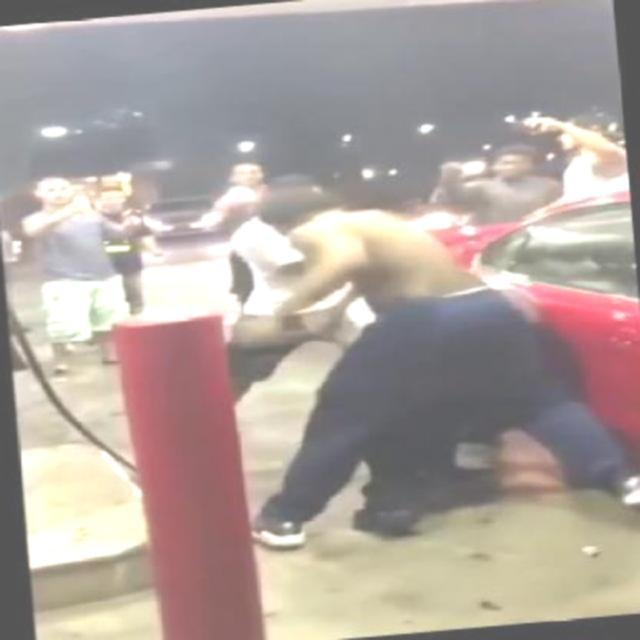fight: (222, 144, 638, 556)
non-fight: (15, 149, 165, 366)
